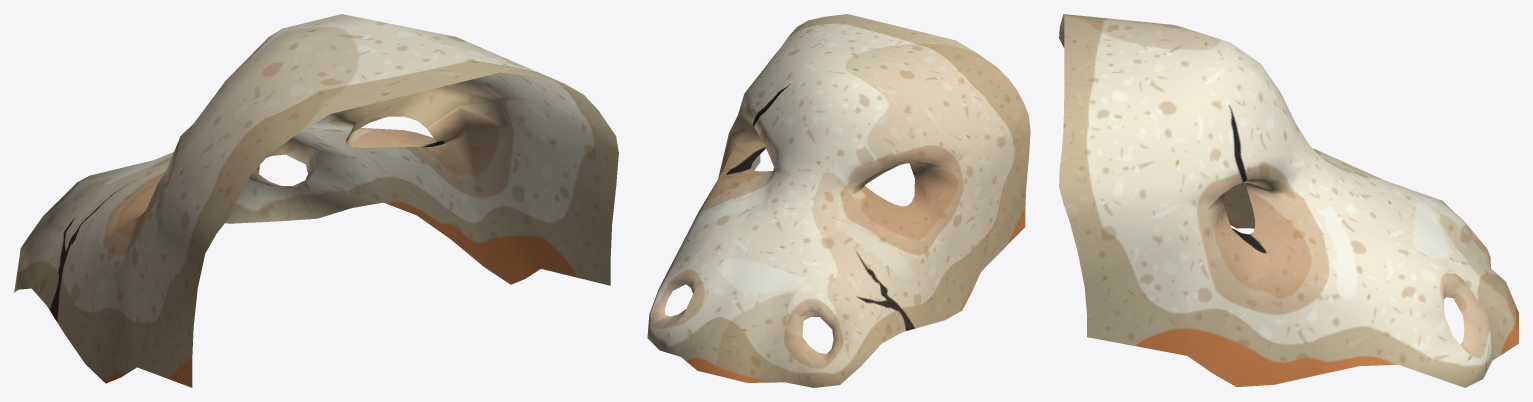
File: cabecaDino01.FBX
3 renders of one model, left to right at view 1: azimuth 30°, elevation 25°; view 2: azimuth 150°, elevation 25°; view 3: azimuth 270°, elevation 25°, orthographic. The views are drawn at different scales.
Parts seen in each view (by area): view 1: cabecaDino; view 2: cabecaDino; view 3: cabecaDino.
Boxes of the visible parts, x1,y1,x2,y2 form: cabecaDino: (14, 14, 618, 387); cabecaDino: (647, 14, 1030, 387); cabecaDino: (1059, 14, 1518, 387).
Bounding box in the file's own units: 637 × 516 × 755.
1 material, 1 textured.
